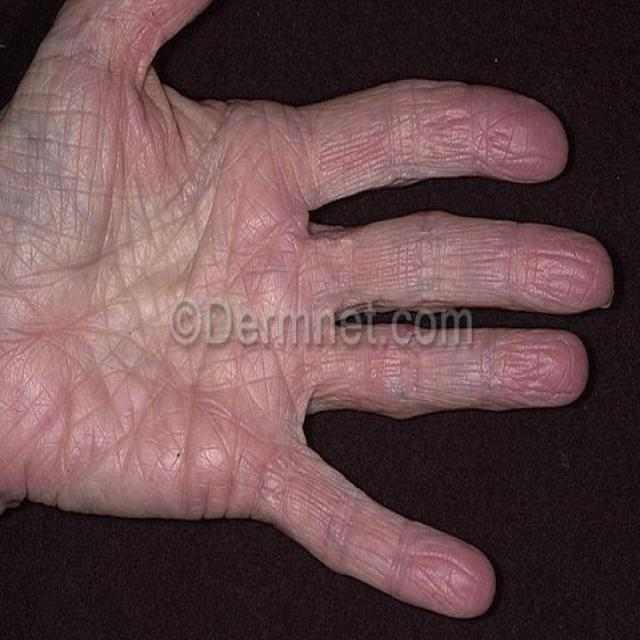liquenificacion 1: (2, 0, 612, 619)
liquenificacion 2: (2, 0, 612, 619)
liquenificacion 3: (2, 0, 612, 619)
